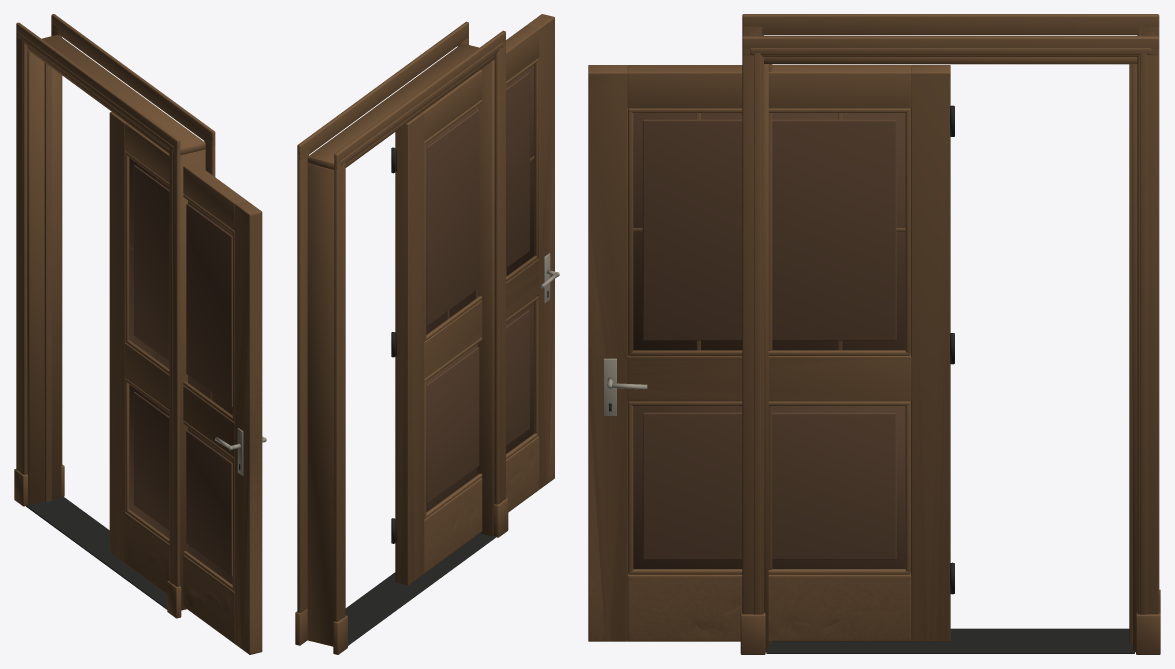
The model's file is door-kit.glb.
3 renders of one model, left to right at view 1: azimuth 30°, elevation 25°; view 2: azimuth 150°, elevation 25°; view 3: azimuth 270°, elevation 25°, orthographic. The views are drawn at different scales.
Parts seen in each view (by area): view 1: DoorFrame_wood, DoorLeaf_frame, DoorLeaf_panel.001, DoorLeaf_panel, DoorFrame_steel, DoorLeaf_molding.001, DoorLeafGlazed_frame, DoorLeaf_molding, DoorLeaf_handle; view 2: DoorFrame_wood, DoorLeaf_frame, DoorLeaf_panel.001, DoorLeaf_panel, DoorFrame_steel, DoorLeaf_molding.001, DoorLeafGlazed_frame, DoorLeaf_molding, DoorLeaf_hinge, DoorLeaf_handle; view 3: DoorLeaf_frame, DoorLeaf_panel.001, DoorFrame_wood, DoorLeaf_panel, DoorLeafGlazed_frame, DoorFrame_steel, DoorLeaf_molding.001, DoorLeaf_molding, DoorLeaf_handle.
Boxes of the visible parts, box(x1,y1,x2,y2) form: DoorFrame_wood: box(14, 14, 215, 618); DoorLeaf_frame: box(109, 111, 262, 654); DoorLeaf_panel.001: box(129, 158, 232, 415); DoorLeaf_panel: box(129, 384, 232, 584); DoorFrame_steel: box(26, 496, 167, 609); DoorLeaf_molding.001: box(125, 152, 234, 422); DoorLeafGlazed_frame: box(131, 348, 257, 634); DoorLeaf_molding: box(125, 378, 234, 591); DoorLeaf_handle: box(215, 428, 266, 475); DoorFrame_wood: box(295, 21, 508, 654); DoorLeaf_frame: box(395, 14, 554, 585); DoorLeaf_panel.001: box(426, 65, 534, 334); DoorLeaf_panel: box(426, 302, 534, 512); DoorFrame_steel: box(345, 533, 495, 645); DoorLeaf_molding.001: box(424, 58, 538, 341); DoorLeafGlazed_frame: box(430, 212, 554, 544); DoorLeaf_molding: box(424, 296, 538, 519); DoorLeaf_hinge: box(391, 147, 548, 543); DoorLeaf_handle: box(540, 253, 559, 303); DoorLeaf_frame: box(588, 65, 950, 641); DoorLeaf_panel.001: box(628, 108, 910, 350); DoorFrame_wood: box(740, 14, 1160, 654); DoorLeaf_panel: box(628, 401, 910, 568); DoorLeafGlazed_frame: box(589, 74, 910, 641); DoorFrame_steel: box(766, 628, 1134, 653); DoorLeaf_molding.001: box(628, 108, 910, 355); DoorLeaf_molding: box(628, 401, 910, 574); DoorLeaf_handle: box(603, 358, 647, 416).
Size of the model in its own units: 0.21 by 2.31 by 1.94.
